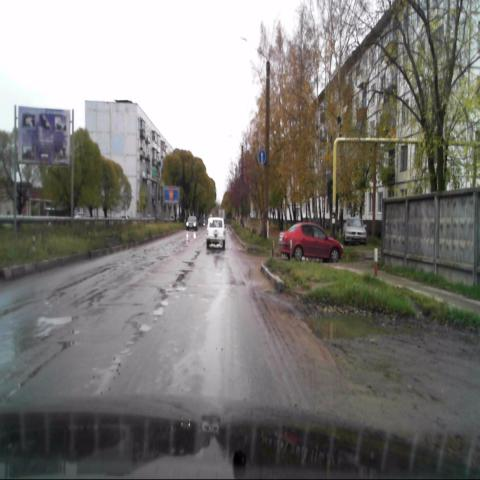4_1_1: (258, 149, 266, 164)
